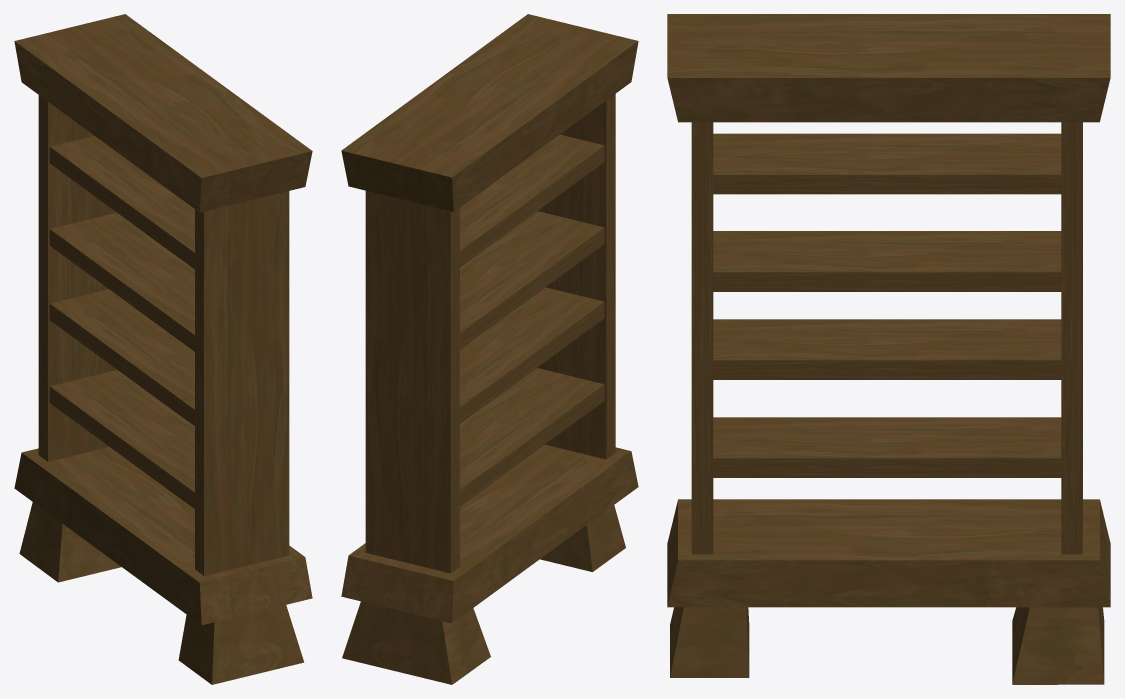
Rendered from standing_shelf.glb.
3 views of the same model, side by side, from view 1: azimuth 30°, elevation 25°; view 2: azimuth 150°, elevation 25°; view 3: azimuth 270°, elevation 25° (orthographic). The views are drawn at different scales.
Visible parts, largest first — view 1: Cube.002, Cube.007, Cube, Cube.001, nogi, Cube.003, Cube.005, Cube.004, Cube.006; view 2: Cube.001, Cube.007, Cube, Cube.002, nogi, Cube.003, Cube.005, Cube.004, Cube.006; view 3: Cube.007, Cube, Cube.006, Cube.003, Cube.004, Cube.005, nogi, Cube.002, Cube.001.
Boxes of the visible parts, left/top/right/bottom form: Cube.002: left=195, top=191, right=289, bottom=575; Cube.007: left=14, top=14, right=312, bottom=212; Cube: left=14, top=447, right=312, bottom=625; Cube.001: left=38, top=95, right=117, bottom=461; nogi: left=19, top=502, right=304, bottom=684; Cube.003: left=49, top=370, right=194, bottom=508; Cube.005: left=49, top=212, right=194, bottom=351; Cube.004: left=49, top=289, right=194, bottom=425; Cube.006: left=49, top=136, right=194, bottom=269; Cube.001: left=365, top=190, right=459, bottom=573; Cube.007: left=341, top=14, right=638, bottom=211; Cube: left=341, top=444, right=638, bottom=623; Cube.002: left=537, top=94, right=615, bottom=459; nogi: left=342, top=505, right=625, bottom=684; Cube.003: left=460, top=368, right=604, bottom=506; Cube.005: left=460, top=211, right=604, bottom=349; Cube.004: left=460, top=287, right=604, bottom=423; Cube.006: left=460, top=134, right=604, bottom=267; Cube.007: left=667, top=14, right=1110, bottom=122; Cube: left=667, top=499, right=1110, bottom=607; Cube.006: left=713, top=133, right=1061, bottom=194; Cube.003: left=713, top=417, right=1061, bottom=477; Cube.004: left=713, top=319, right=1061, bottom=379; Cube.005: left=713, top=231, right=1061, bottom=291; nogi: left=670, top=607, right=1104, bottom=684; Cube.002: left=691, top=122, right=713, bottom=554; Cube.001: left=1061, top=122, right=1082, bottom=554.
Bounding box in the file's own units: 0.962 × 4.16 × 2.76.
Materials: 1 (1 with a texture image).
